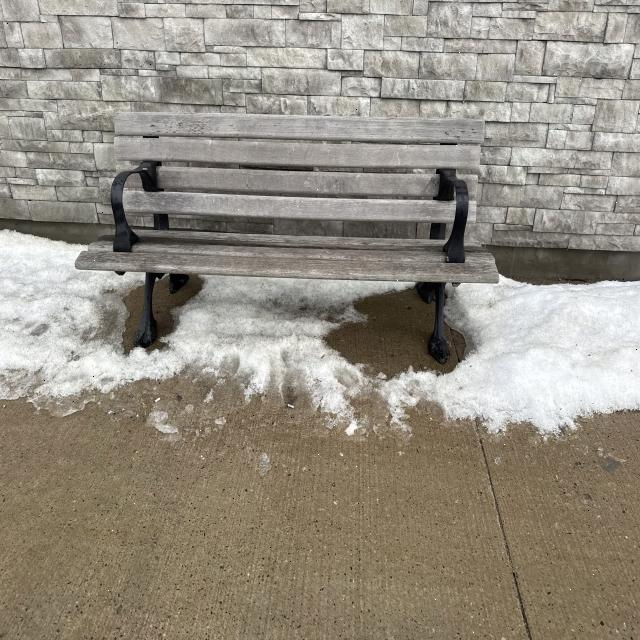Bench: (70, 110, 499, 360)
